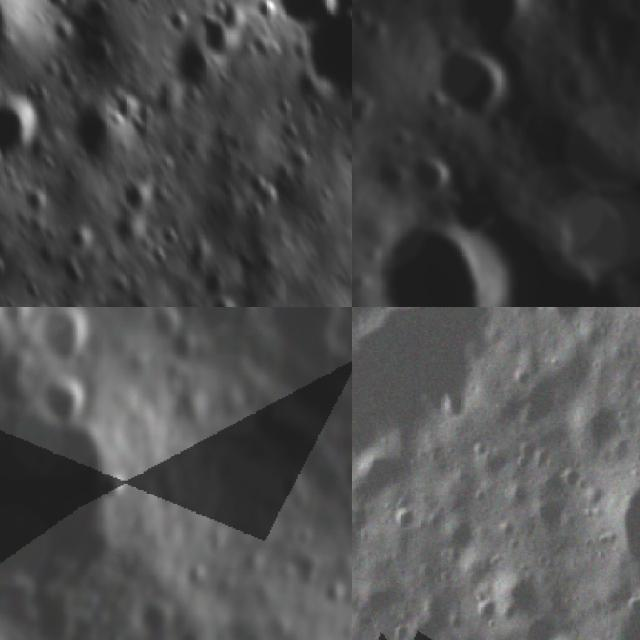crater: (352, 179, 550, 307), (352, 307, 488, 463), (0, 419, 114, 593), (410, 28, 527, 142), (433, 0, 544, 62), (295, 9, 352, 103), (394, 131, 466, 202), (567, 399, 632, 470), (165, 28, 222, 106), (358, 138, 423, 206), (194, 0, 253, 67), (0, 90, 45, 177), (500, 373, 561, 437), (26, 307, 85, 367), (65, 98, 122, 160), (493, 568, 545, 622), (40, 374, 86, 430), (267, 0, 347, 28), (132, 307, 183, 349), (135, 593, 178, 640), (178, 555, 220, 600), (116, 169, 156, 215), (240, 170, 282, 210), (438, 514, 477, 555), (312, 580, 352, 618), (532, 498, 570, 538), (319, 347, 352, 393), (387, 500, 423, 538), (470, 594, 500, 632), (19, 184, 52, 218), (61, 228, 97, 258), (337, 457, 352, 503), (204, 291, 244, 307), (156, 222, 180, 248), (148, 242, 166, 264), (22, 299, 67, 307), (0, 254, 8, 280)
